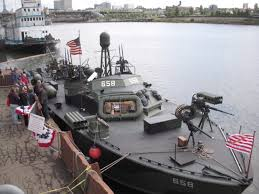boat: (25, 30, 255, 194), (1, 1, 61, 50)
